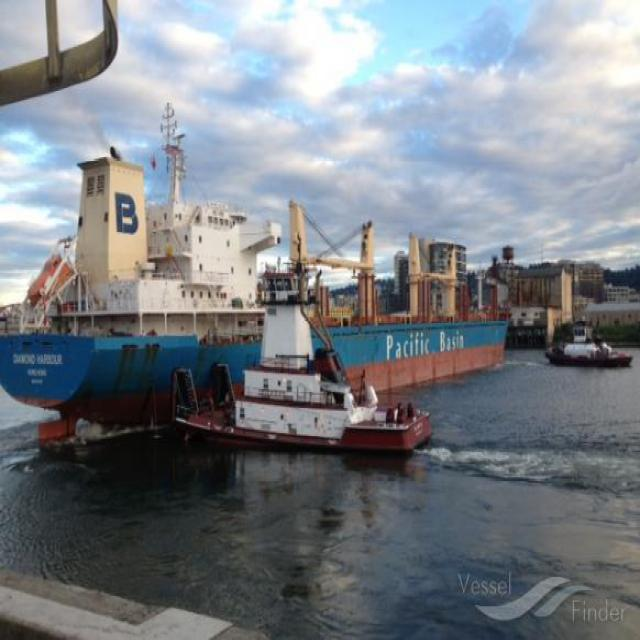Bulk Carrier: (0, 153, 514, 440)
tugboat: (177, 251, 431, 449), (542, 320, 634, 372)
